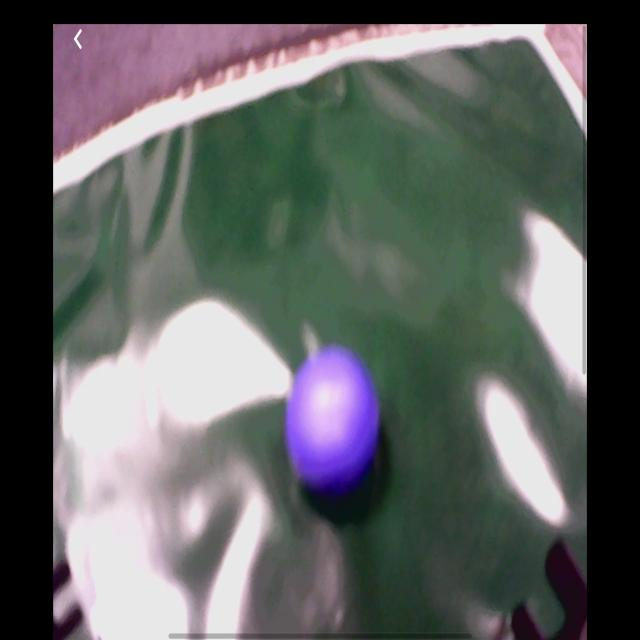ball: (287, 348, 379, 488)
